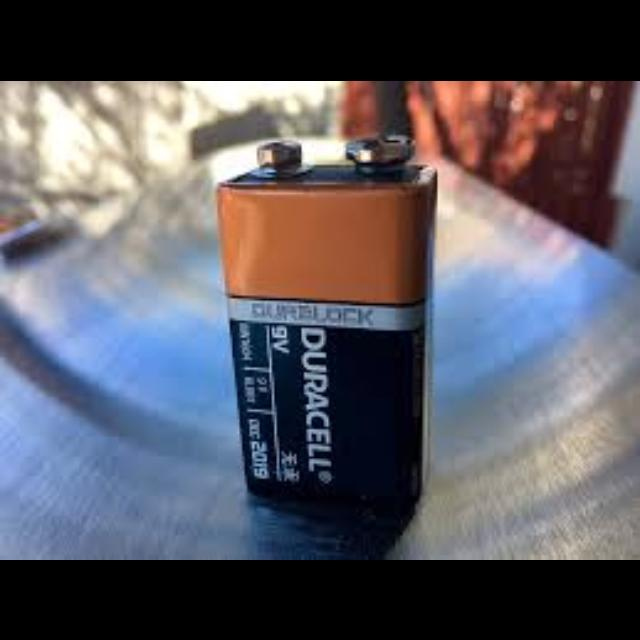Battery: (215, 137, 437, 505)
